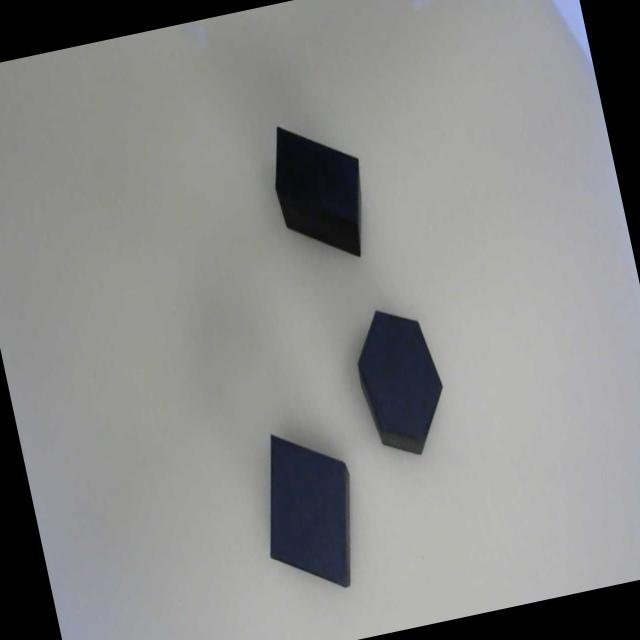hexagon: (352, 306, 445, 447)
rectangle: (274, 124, 356, 224)
square: (268, 433, 344, 586)
